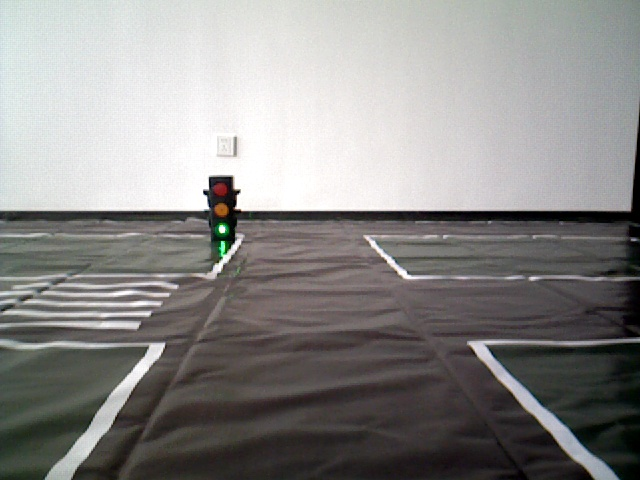green: (207, 178, 234, 238)
